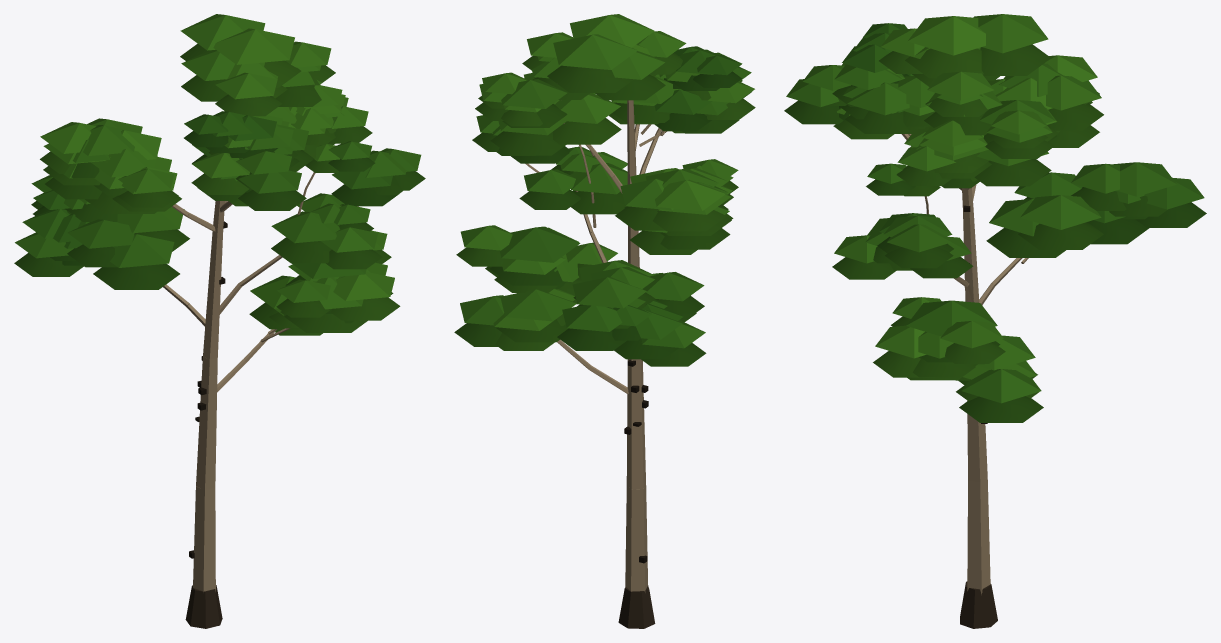
File: tree_birch_3_mid.glb
The picture shows the model from 3 angles, left to right: view 1: azimuth 30°, elevation 25°; view 2: azimuth 150°, elevation 25°; view 3: azimuth 270°, elevation 25°; orthographic projection. The views are drawn at different scales.
Parts seen in each view (by area): view 1: leaf, wood; view 2: leaf, wood; view 3: leaf, wood.
Boxes of the visible parts, x1=… form: leaf: x1=14, y1=14, x2=425, y2=335; wood: x1=163, y1=172, x2=358, y2=628; leaf: x1=454, y1=14, x2=755, y2=366; wood: x1=525, y1=100, x2=666, y2=628; leaf: x1=784, y1=14, x2=1206, y2=422; wood: x1=901, y1=134, x2=1028, y2=628.
Bounding box in the file's own units: 5.65 × 10.3 × 6.32.
